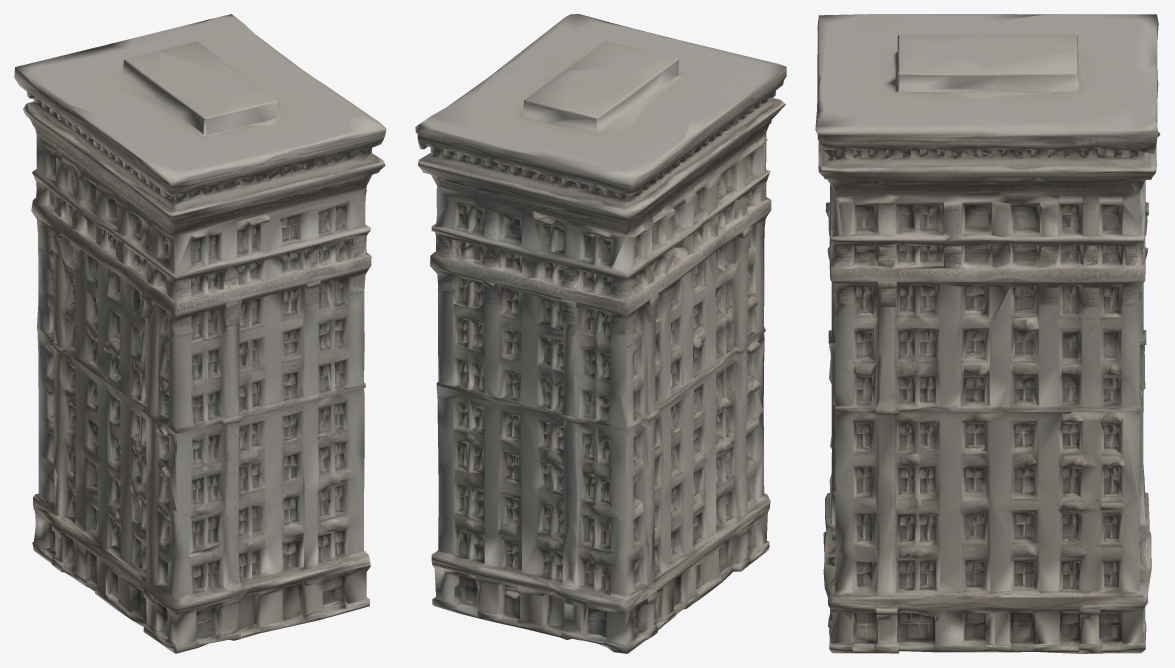
The model's file is bld6_hi.glb.
3 renders of one model, left to right at view 1: azimuth 30°, elevation 25°; view 2: azimuth 150°, elevation 25°; view 3: azimuth 270°, elevation 25°, orthographic. The views are drawn at different scales.
Parts seen in each view (by area): view 1: tripo_node_6a543c6c-19c6-4799-a1c5-1132af0a3eb6; view 2: tripo_node_6a543c6c-19c6-4799-a1c5-1132af0a3eb6; view 3: tripo_node_6a543c6c-19c6-4799-a1c5-1132af0a3eb6.
Boxes of the visible parts, bbox=[...] form: tripo_node_6a543c6c-19c6-4799-a1c5-1132af0a3eb6: bbox=[14, 14, 386, 653]; tripo_node_6a543c6c-19c6-4799-a1c5-1132af0a3eb6: bbox=[415, 14, 786, 653]; tripo_node_6a543c6c-19c6-4799-a1c5-1132af0a3eb6: bbox=[815, 14, 1160, 653].
Bounding box in the file's own units: 0.4562 × 0.9996 × 0.5703.
1 material, 1 textured.
